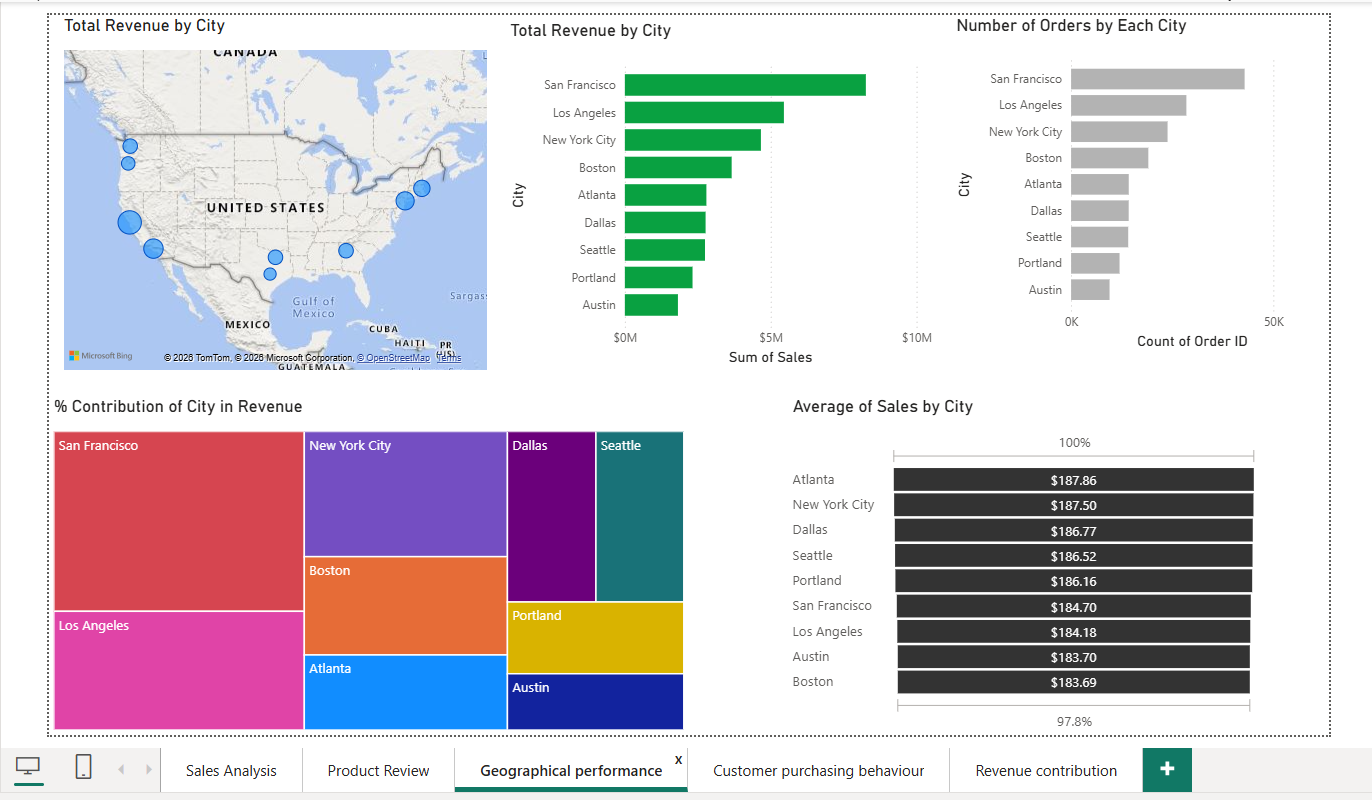

Layout of this report page (visuals, bound fields, positions):
{"tool":"powerbi","page":{"name":"Geographical performance","canvas":[1280,720],"ordinal":2},"visuals":[{"type":"map","fields":{"Category":["Sales Data For Analysis.City"],"Size":["Sales Data For Analysis.Total Revenue"]},"box":[10,0,432.5,360],"z":0},{"type":"barChart","title":"Total Revenue by City","fields":{"Category":["Sales Data For Analysis.City"],"Y":["Sum(Sales Data For Analysis.Sales)"]},"box":[456.2,5,432.5,350],"z":1},{"type":"treemap","title":"% Contribution of City in Revenue","fields":{"Values":["Sum(Sales Data For Analysis.Sales)"],"Group":["Sales Data For Analysis.City"]},"box":[0,381.2,640,338.8],"z":2},{"type":"funnel","fields":{"Category":["Sales Data For Analysis.City"],"Y":["Avg(Sales Data For Analysis.Sales)"]},"box":[738.8,381.2,476.2,338.8],"z":4},{"type":"barChart","title":"Number of Orders by  Each City","fields":{"Category":["Sales Data For Analysis.City"],"Y":["Sales Data For Analysis.Total Orders"]},"box":[888.8,0,391.2,338.8],"z":5}]}

Visuals, with their boxes on the page's 1280x720 design canvas (x1, y1, x2, y2). These are canvas units, not pixel positions in the 1372x800 screenshot, which may show the page scaled, cropped or inside an application window:
map - Sales Data For Analysis.City x Sales Data For Analysis.Total Revenue: (10, 0, 442, 360)
"Total Revenue by City" barChart: (456, 5, 889, 355)
"% Contribution of City in Revenue" treemap: (0, 381, 640, 720)
funnel - Sales Data For Analysis.City x Avg(Sales Data For Analysis.Sales): (739, 381, 1215, 720)
"Number of Orders by  Each City" barChart: (889, 0, 1280, 339)
